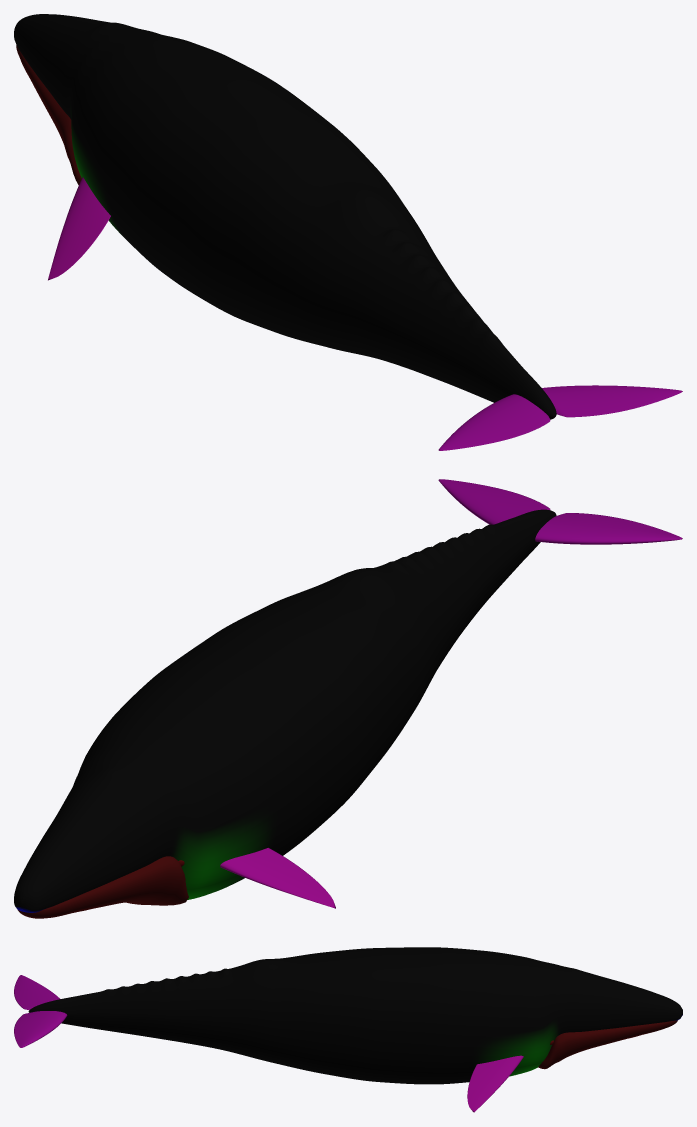
Rendered from gray_whale.glb.
3 renders of one model, top to bottom at view 1: azimuth 30°, elevation 25°; view 2: azimuth 150°, elevation 25°; view 3: azimuth 270°, elevation 25°, orthographic. The views are drawn at different scales.
Parts seen in each view (by area): view 1: gray_whale; view 2: gray_whale; view 3: gray_whale.
Boxes of the visible parts, left/top/right/bottom form: gray_whale: left=14, top=14, right=682, bottom=450; gray_whale: left=14, top=479, right=682, bottom=918; gray_whale: left=14, top=947, right=682, bottom=1112.
Size of the model in its own units: 4 by 2.66 by 13.09.
